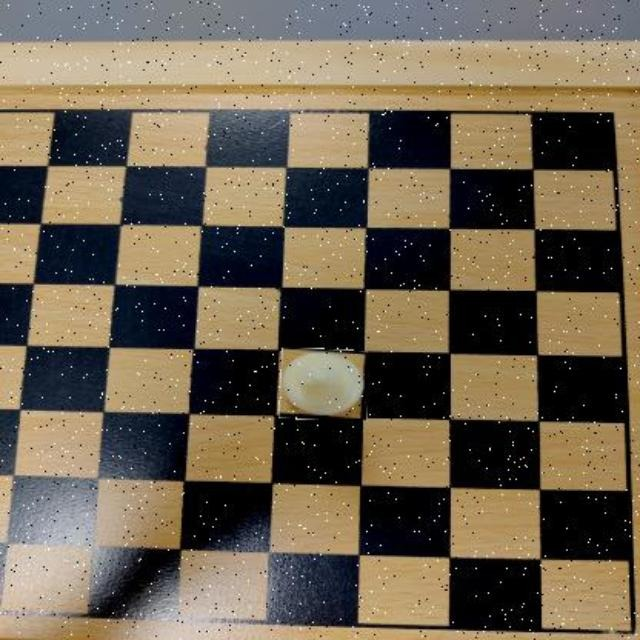white-king: (280, 349, 368, 421)
